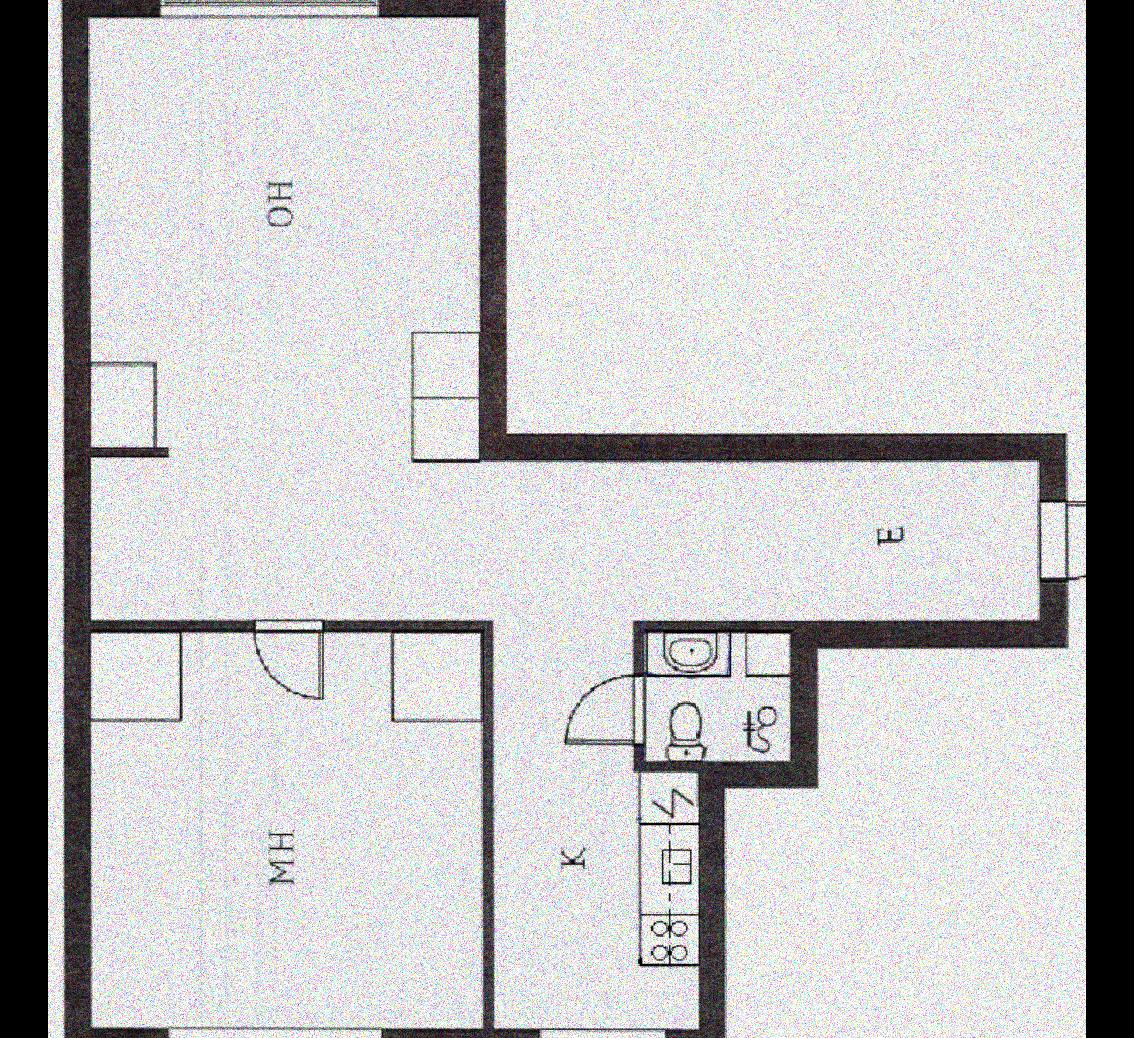door: (248, 602, 328, 711), (560, 673, 650, 749)
window: (159, 0, 381, 21), (167, 1030, 381, 1038), (539, 1027, 669, 1038)
zone: (83, 17, 1036, 1036), (90, 631, 483, 1030), (645, 632, 787, 761)
